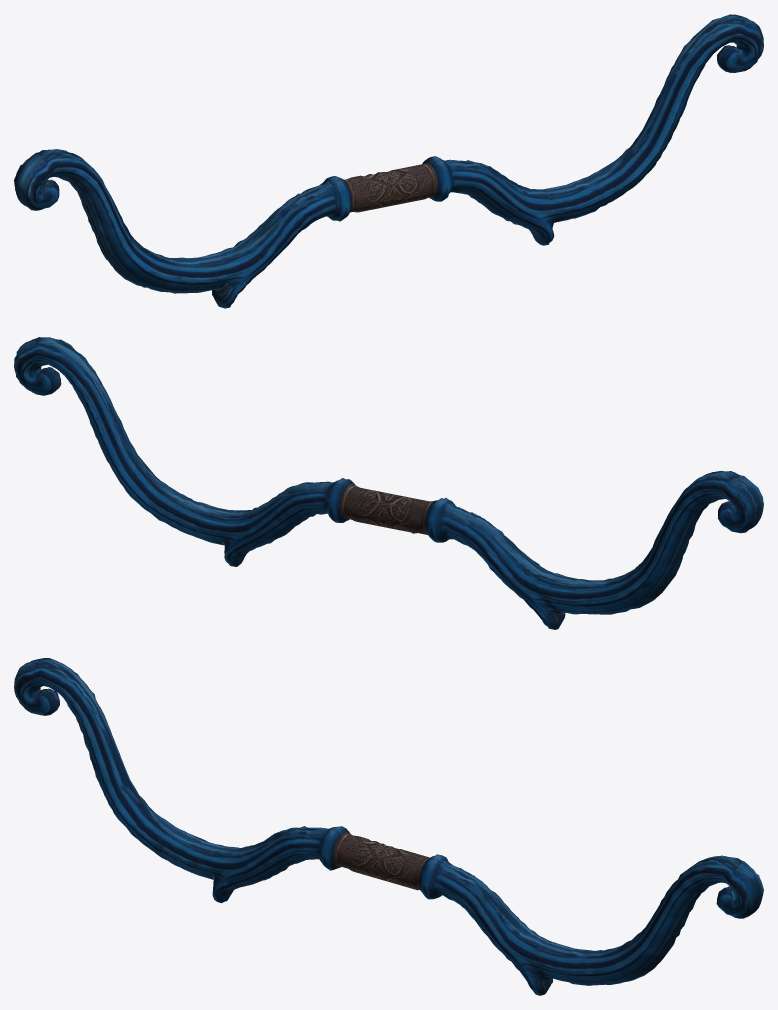
The model's file is Wrath.glb.
3 views of the same model, one above another, from view 1: azimuth 30°, elevation 25°; view 2: azimuth 150°, elevation 25°; view 3: azimuth 330°, elevation 25° (orthographic).
Visible parts, largest first — view 1: Mesh_0.002; view 2: Mesh_0.002; view 3: Mesh_0.002.
Part boxes in pixels (x1,y1,x2,y2): Mesh_0.002: (14, 14, 763, 308); Mesh_0.002: (14, 337, 763, 629); Mesh_0.002: (14, 658, 763, 995).
Bounding box in the file's own units: 1.22 × 0.3361 × 0.0629.
Materials: 1 (1 with a texture image).
